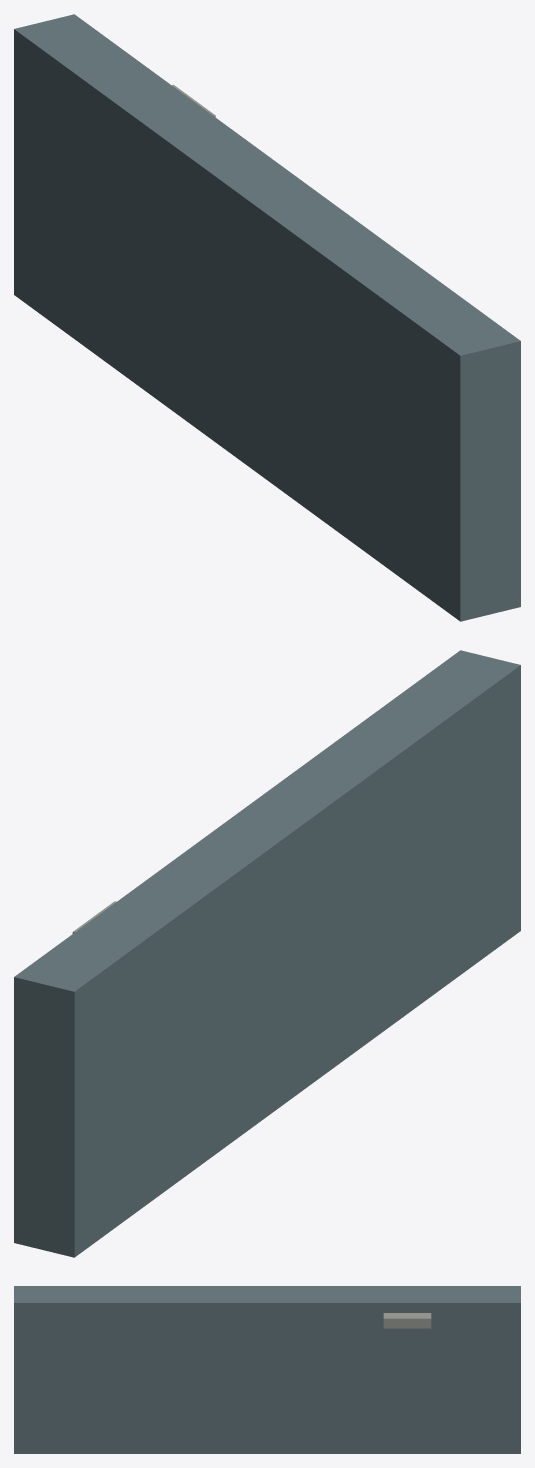
File: pickup_passenger_door.glb
3 views of the same model, one above another, from view 1: azimuth 30°, elevation 25°; view 2: azimuth 150°, elevation 25°; view 3: azimuth 270°, elevation 25° (orthographic). The views are drawn at different scales.
Parts seen in each view (by area): view 1: Door skin; view 2: Door skin; view 3: Door skin, Handle.
Boxes of the visible parts, left/top/right/bottom form: Door skin: left=14, top=14, right=520, bottom=621; Door skin: left=14, top=650, right=520, bottom=1257; Door skin: left=14, top=1286, right=520, bottom=1453; Handle: left=383, top=1313, right=431, bottom=1328.
Bounding box in the file's own units: 0.1535 × 0.483 × 1.47.
